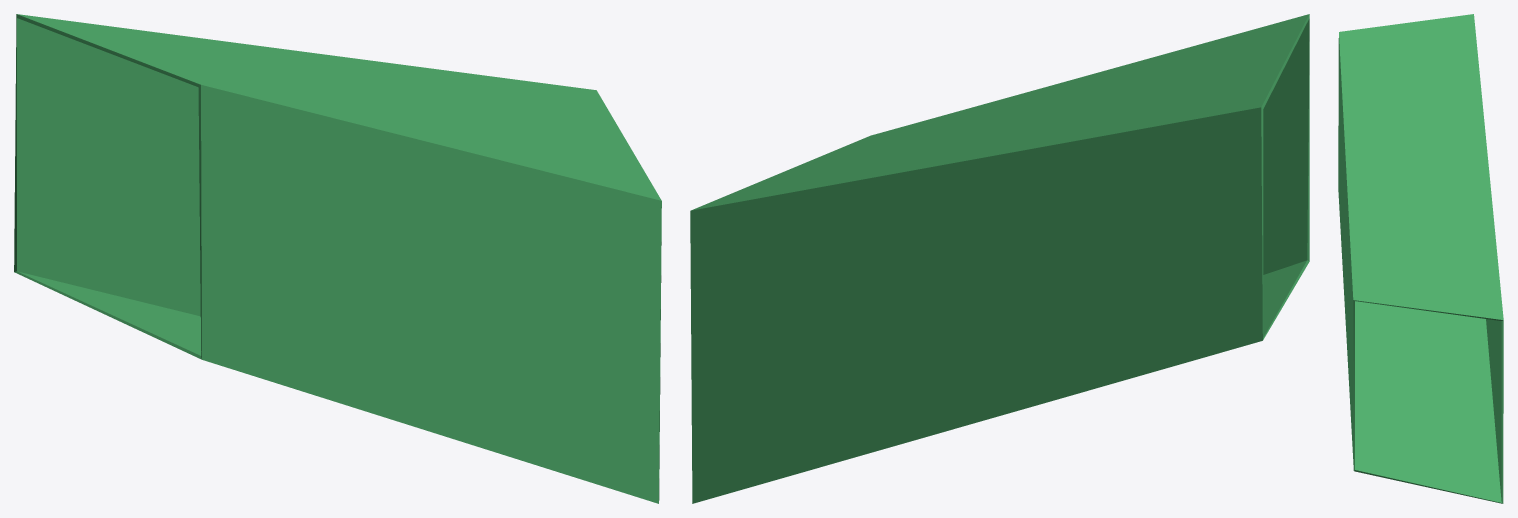
File: Museum_Path_1.fbx
The picture shows the model from 3 angles, left to right: view 1: azimuth 30°, elevation 25°; view 2: azimuth 150°, elevation 25°; view 3: azimuth 270°, elevation 25°; orthographic projection. The views are drawn at different scales.
Visible parts, largest first — view 1: Room_1_Path; view 2: Room_1_Path; view 3: Room_1_Path.
Part boxes in pixels (x1,y1,x2,y2): Room_1_Path: [14, 14, 661, 503]; Room_1_Path: [690, 14, 1309, 503]; Room_1_Path: [1338, 14, 1503, 503].
Bounding box in the file's own units: 1132 × 1011 × 470.
